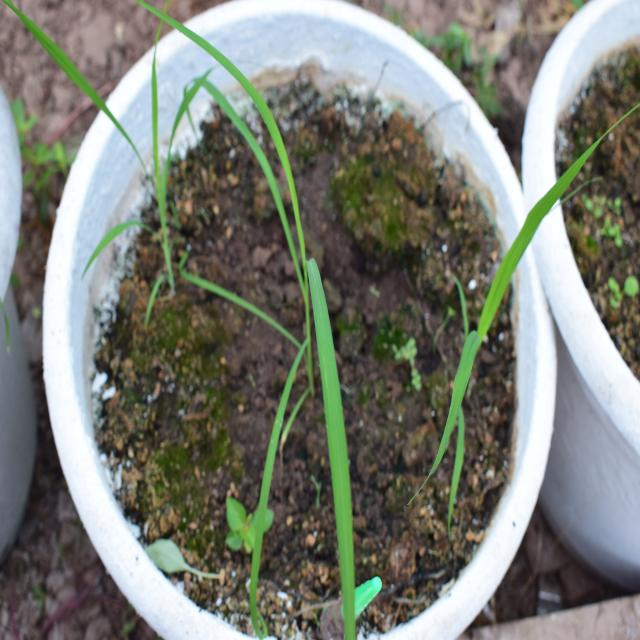barnyard_grass: (140, 54, 381, 575)
